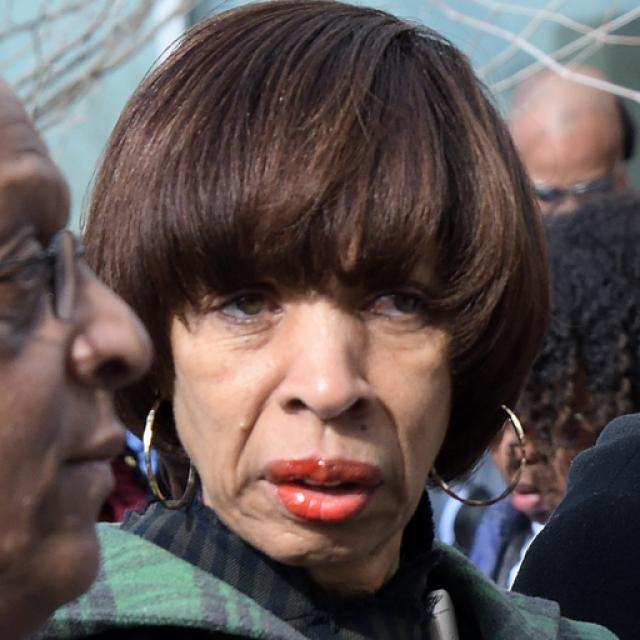sad: (165, 206, 467, 569)
